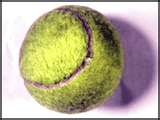tennis ball: (18, 4, 126, 115)
